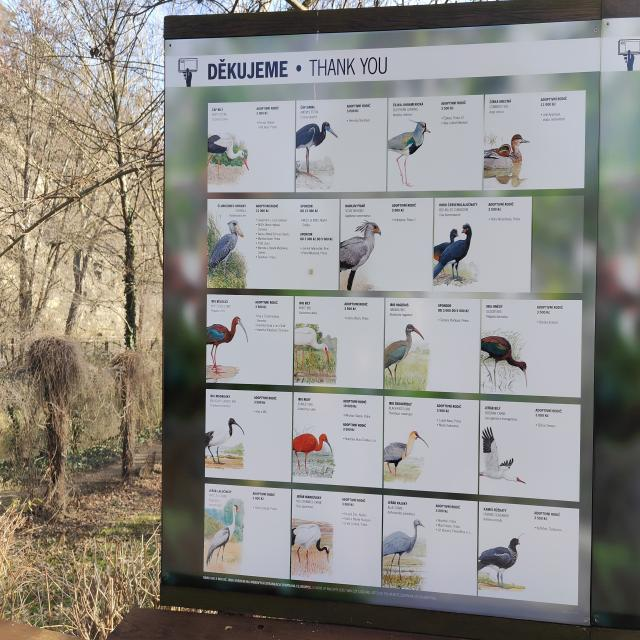bird: (388, 119, 431, 188), (340, 218, 381, 290), (479, 426, 526, 484), (478, 533, 524, 589), (206, 316, 248, 377), (383, 519, 425, 580), (206, 504, 243, 570), (481, 336, 527, 388), (433, 223, 472, 284), (384, 324, 424, 383), (296, 122, 338, 178), (384, 431, 429, 478), (208, 220, 244, 275), (205, 418, 245, 465), (292, 524, 330, 572), (208, 134, 249, 176), (294, 327, 330, 372), (293, 433, 332, 472), (434, 228, 459, 279), (488, 134, 530, 164), (484, 144, 518, 168)
